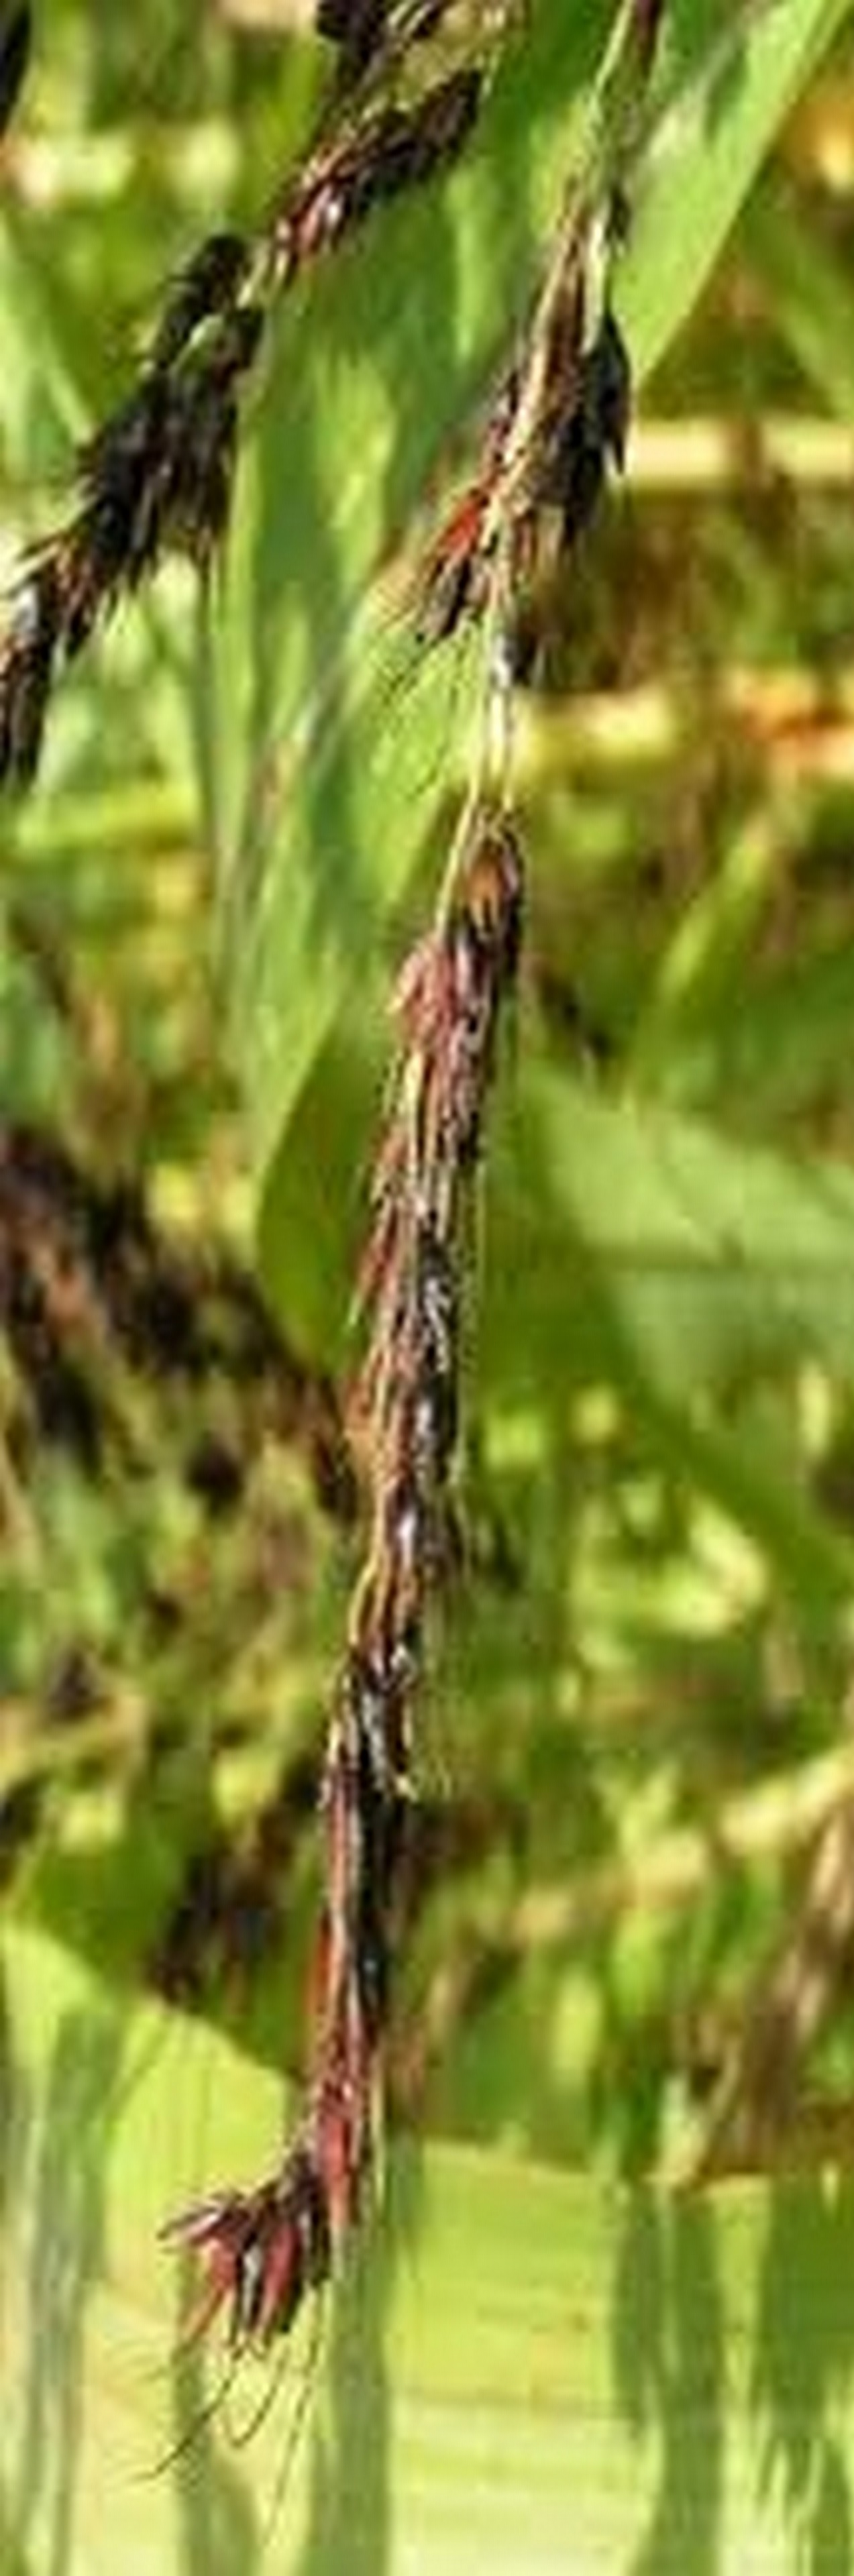Wheat Loose Smut: (159, 767, 598, 2361)
